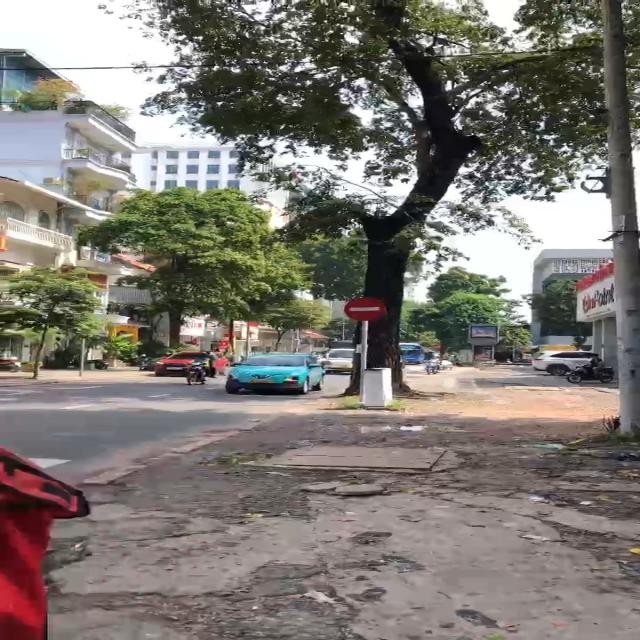Bien bao cam di nguoc chieu: (341, 292, 391, 322)
